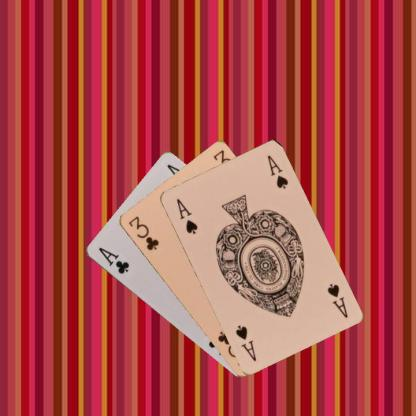3c: (125, 213, 160, 252)
Ac: (95, 244, 130, 276)
As: (173, 195, 199, 236), (324, 281, 349, 319)
